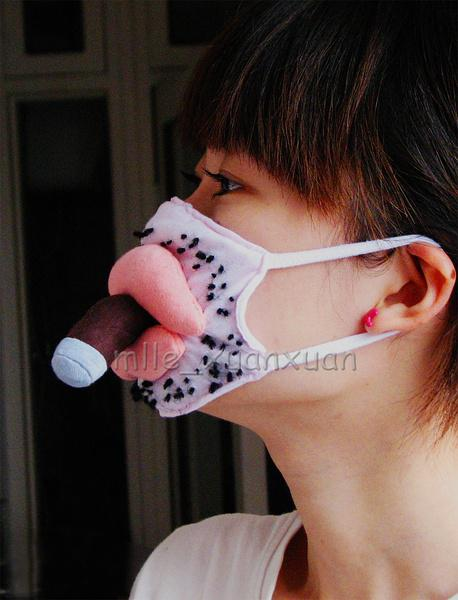OK: (107, 160, 374, 422)
